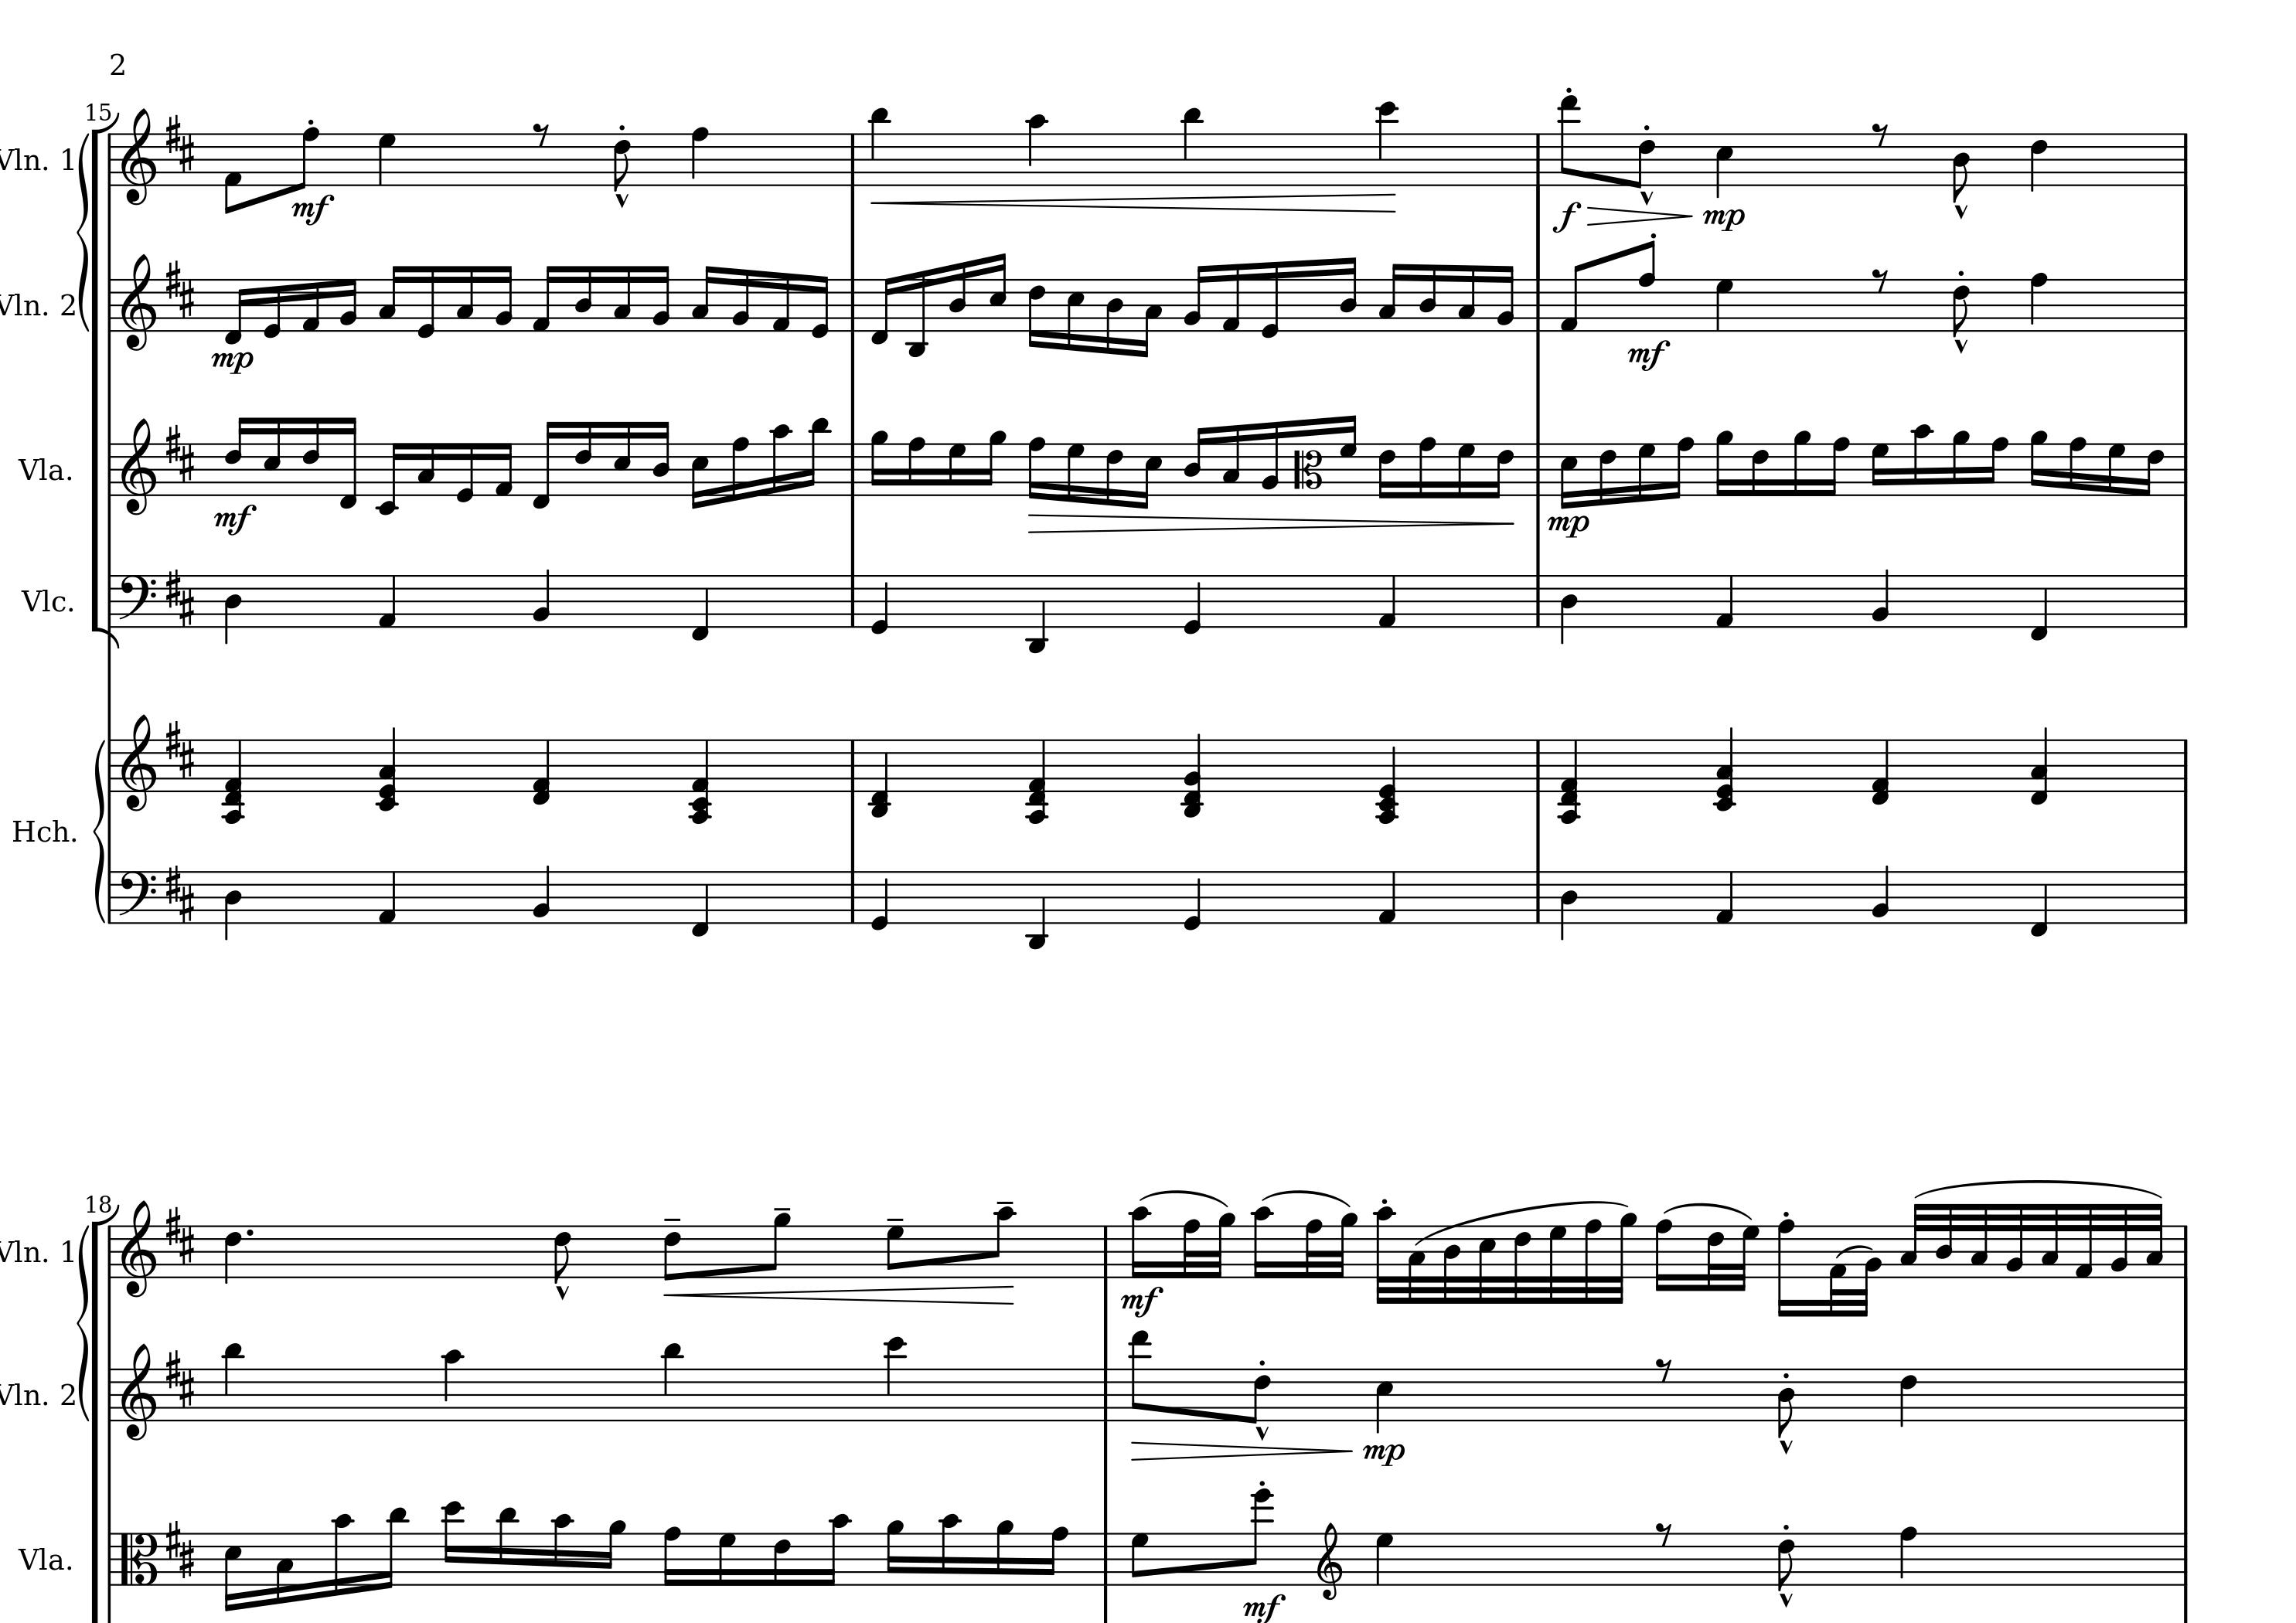1: (84, 1191, 95, 1212), (84, 102, 95, 121)
16_-1: (531, 418, 559, 509), (337, 415, 360, 511), (223, 278, 249, 346), (871, 274, 896, 344)
16_-2: (376, 439, 404, 515)
16_-3: (906, 269, 928, 358)
16_0: (1260, 258, 1281, 339), (416, 263, 437, 339), (455, 439, 476, 504), (262, 278, 283, 339), (810, 272, 829, 339)
16_1: (531, 263, 559, 334), (1219, 262, 1242, 334), (2075, 1200, 2094, 1280), (771, 271, 792, 332), (300, 278, 321, 332), (494, 441, 513, 497)
16_10: (822, 1512, 850, 1586), (332, 1512, 355, 1597), (1251, 1205, 1275, 1279), (769, 422, 792, 497), (1911, 422, 1934, 497), (1130, 1205, 1152, 1279), (552, 1512, 573, 1586), (940, 1512, 961, 1586)
16_11: (379, 1505, 408, 1590), (805, 416, 831, 497), (497, 1505, 516, 1586)
16_12: (441, 1498, 464, 1586)
16_2: (1182, 263, 1207, 332), (1260, 420, 1281, 497), (1495, 263, 1516, 334), (731, 267, 752, 332), (652, 263, 671, 334), (494, 263, 513, 332), (337, 278, 358, 332)
16_3: (1137, 276, 1163, 358), (1377, 262, 1404, 332), (376, 263, 402, 332), (690, 263, 717, 332), (1221, 422, 1242, 497), (274, 1530, 295, 1604), (455, 263, 476, 332), (1456, 263, 1477, 332), (613, 263, 632, 332), (416, 441, 436, 495)
16_4: (1182, 425, 1207, 497), (1103, 278, 1124, 357), (947, 258, 968, 332), (652, 418, 671, 497), (1339, 255, 1358, 332), (1418, 262, 1439, 332), (574, 263, 594, 332)
16_5: (1137, 441, 1163, 509), (262, 415, 283, 497), (987, 251, 1008, 332), (1065, 278, 1086, 353), (223, 1530, 242, 1611), (613, 418, 632, 497), (690, 441, 710, 509), (1558, 441, 1578, 508)
16_6: (223, 415, 249, 495), (302, 415, 321, 495), (574, 418, 594, 497), (1026, 276, 1047, 348), (1490, 441, 1514, 501), (2140, 441, 2164, 497), (1103, 441, 1123, 506), (1599, 439, 1616, 506), (1377, 441, 1397, 501), (1750, 441, 1769, 497), (773, 1530, 792, 1586)
16_7: (1339, 413, 1360, 497), (1635, 439, 1657, 502), (1065, 441, 1084, 502), (1456, 441, 1476, 501), (2106, 439, 2126, 497), (947, 441, 966, 497), (1871, 441, 1890, 497), (717, 1530, 736, 1586)
16_8: (1776, 1217, 1797, 1317), (1042, 1525, 1068, 1586), (1669, 436, 1693, 499), (1825, 436, 1850, 497), (1985, 436, 2008, 495), (1655, 1217, 1672, 1293), (1026, 436, 1045, 501), (1418, 436, 1437, 501), (906, 436, 926, 497), (2068, 436, 2087, 497), (662, 1525, 682, 1586), (731, 436, 748, 502)
16_9: (980, 429, 1007, 497), (601, 1518, 625, 1586), (870, 427, 889, 497), (1715, 429, 1734, 497), (1792, 429, 1811, 497), (2029, 429, 2048, 497), (994, 1518, 1014, 1586), (1950, 429, 1969, 495), (885, 1518, 903, 1586)
2: (109, 51, 125, 76)
32_1: (1827, 1221, 1848, 1317)
32_10: (1374, 1205, 1398, 1305)
32_2: (1855, 1221, 1883, 1316), (2006, 1200, 2025, 1279), (2110, 1200, 2129, 1279)
32_3: (1899, 1200, 1924, 1279), (1407, 1223, 1426, 1305), (2040, 1200, 2059, 1279), (2145, 1200, 2164, 1279), (1969, 1201, 1989, 1279)
32_4: (1442, 1221, 1463, 1303), (1934, 1201, 1953, 1279)
32_5: (1477, 1223, 1497, 1305)
32_6: (1513, 1221, 1534, 1305), (1706, 1223, 1725, 1291)
32_7: (1734, 1224, 1760, 1291), (1548, 1223, 1567, 1305)
32_8: (1585, 1217, 1602, 1305), (1180, 1217, 1203, 1280), (1303, 1217, 1325, 1279)
32_9: (1613, 1210, 1639, 1305), (1212, 1210, 1237, 1279), (1335, 1210, 1358, 1279)
4_-1: (2029, 868, 2050, 936), (2029, 573, 2050, 639), (690, 869, 711, 936), (690, 573, 710, 641)
4_-1_1: (531, 738, 553, 806), (1871, 736, 1892, 806)
4_-3: (1026, 868, 1049, 950), (1026, 573, 1049, 653)
4_-3_-1: (868, 739, 892, 819)
4_0: (870, 869, 891, 931), (1182, 869, 1203, 931), (871, 573, 891, 634), (1184, 573, 1202, 634)
4_1: (1377, 573, 1398, 629), (1715, 573, 1736, 629), (1377, 869, 1398, 924), (1715, 869, 1736, 924), (378, 573, 397, 629), (378, 869, 397, 924)
4_10: (1026, 111, 1047, 186), (443, 1347, 464, 1423)
4_11: (1180, 105, 1203, 186), (221, 1340, 244, 1421), (870, 105, 891, 186)
4_12: (884, 1335, 906, 1423), (1375, 100, 1398, 186)
4_2: (532, 566, 553, 631), (1871, 567, 1892, 629), (532, 862, 553, 924), (1871, 862, 1892, 924)
4_4: (1558, 573, 1579, 645), (223, 868, 244, 940), (223, 573, 242, 645), (1560, 868, 1579, 940)
4_5: (1715, 130, 1734, 198), (1375, 1365, 1393, 1433)
4_6: (1897, 1365, 1918, 1428), (223, 1223, 242, 1286), (2029, 132, 2048, 193)
4_7: (1715, 278, 1736, 332), (1374, 1530, 1395, 1584), (378, 132, 397, 186)
4_8: (690, 125, 710, 186), (2029, 271, 2048, 332), (1899, 1525, 1918, 1586)
4_th: (374, 725, 399, 811), (1180, 732, 1205, 819), (221, 739, 246, 824), (1556, 739, 1581, 824), (689, 739, 713, 824), (1375, 741, 1400, 824), (1713, 725, 1736, 811), (1026, 739, 1049, 824)
5: (98, 102, 109, 121)
8: (97, 1191, 111, 1212)
8_1: (1558, 260, 1585, 334), (223, 130, 242, 214)
8_10: (989, 1205, 1015, 1279)
8_11: (661, 1340, 683, 1423)
8_13: (1128, 1328, 1151, 1425), (1558, 93, 1579, 188)
8_14: (1245, 1488, 1274, 1586)
8_4: (1952, 130, 1971, 204), (1776, 1365, 1795, 1439)
8_6: (1632, 132, 1657, 188), (1247, 1367, 1272, 1423), (553, 1223, 573, 1282), (662, 1223, 682, 1282), (1776, 1530, 1795, 1590), (613, 132, 632, 190), (1952, 278, 1971, 335)
8_7: (885, 1223, 905, 1277), (1130, 1532, 1149, 1584)
8_8: (1635, 239, 1657, 332), (293, 125, 320, 190)
8_9: (766, 1210, 792, 1279)
Brace: (74, 125, 90, 328), (74, 1219, 90, 1419), (91, 736, 107, 922)
Bracke: (86, 123, 116, 650), (93, 1208, 121, 1623), (100, 1326, 118, 1461)
Cclef: (118, 1532, 158, 1586), (1291, 441, 1323, 495)
Crescendo_hairpin: (878, 188, 1398, 220), (662, 1286, 1015, 1310), (1581, 204, 1695, 227)
D_S: (163, 422, 195, 483), (163, 258, 195, 318), (163, 718, 195, 778), (163, 1205, 195, 1265), (163, 1347, 195, 1407), (165, 566, 195, 627), (163, 112, 193, 172), (165, 862, 195, 922), (165, 1518, 193, 1577)
Diminuendo_hairpin: (1024, 513, 1513, 536), (1131, 1439, 1353, 1465)
Fclef: (118, 573, 156, 629), (118, 869, 156, 924)
Gclef: (119, 251, 158, 353), (119, 416, 158, 516), (119, 1342, 156, 1442), (119, 107, 156, 206), (119, 713, 156, 811), (121, 1200, 156, 1298), (1316, 1519, 1342, 1600)
Marcato_above: (1251, 1423, 1272, 1440), (1778, 1437, 1795, 1453), (1778, 1590, 1795, 1605)
Rests8: (1653, 1519, 1674, 1546), (531, 119, 550, 146), (1871, 119, 1890, 146), (1655, 1354, 1674, 1381), (1871, 265, 1888, 292)
Single_barline: (1530, 443, 1548, 495), (1096, 1532, 1114, 1584), (1530, 574, 1548, 625), (1098, 1367, 1114, 1421), (1530, 278, 1546, 330), (2177, 574, 2192, 627), (845, 869, 861, 922), (1098, 1224, 1114, 1277), (2177, 1368, 2192, 1421), (2177, 133, 2192, 184), (2177, 279, 2192, 330), (845, 739, 861, 790), (1530, 739, 1546, 790), (2177, 739, 2192, 790), (1530, 871, 1546, 922), (2177, 871, 2192, 922), (2177, 1533, 2192, 1584), (845, 278, 859, 332), (104, 573, 118, 627), (1530, 133, 1544, 186), (845, 443, 859, 495), (104, 443, 118, 495), (2178, 443, 2192, 495), (2178, 1224, 2192, 1277), (845, 133, 859, 184), (845, 574, 859, 625), (104, 278, 116, 330), (105, 869, 118, 922), (104, 1224, 116, 1277), (104, 1368, 116, 1421), (104, 133, 116, 184), (104, 1532, 116, 1583), (105, 738, 116, 792)
Slur: (1416, 1198, 1628, 1247), (1910, 1179, 2164, 1198), (1137, 1187, 1230, 1207), (1258, 1189, 1353, 1207), (1662, 1201, 1753, 1219), (1834, 1244, 1873, 1258)
Staccatissimo: (1639, 188, 1655, 204)
Vla: (18, 1540, 65, 1577), (18, 453, 65, 487)
Vlc: (21, 585, 67, 617)
Vln: (0, 288, 42, 321), (0, 1377, 42, 1410), (0, 144, 42, 176)
dot: (244, 1226, 255, 1237)
f: (1551, 200, 1583, 234)
mf: (1625, 339, 1671, 374), (290, 193, 336, 227), (211, 502, 256, 536), (1119, 1284, 1163, 1317), (1240, 1591, 1286, 1623)
mp: (207, 348, 256, 378), (1361, 1439, 1407, 1468), (1544, 511, 1590, 539), (1700, 206, 1748, 232)
